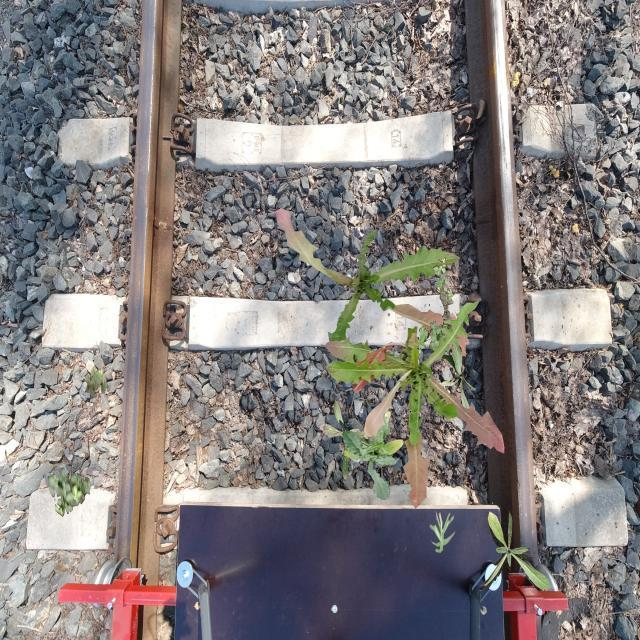Plant: (325, 301, 505, 510), (276, 208, 468, 360), (342, 408, 404, 502), (479, 511, 550, 592), (318, 396, 382, 480), (408, 257, 456, 360), (436, 339, 476, 422), (47, 467, 90, 517), (429, 511, 456, 553), (85, 366, 111, 398)
